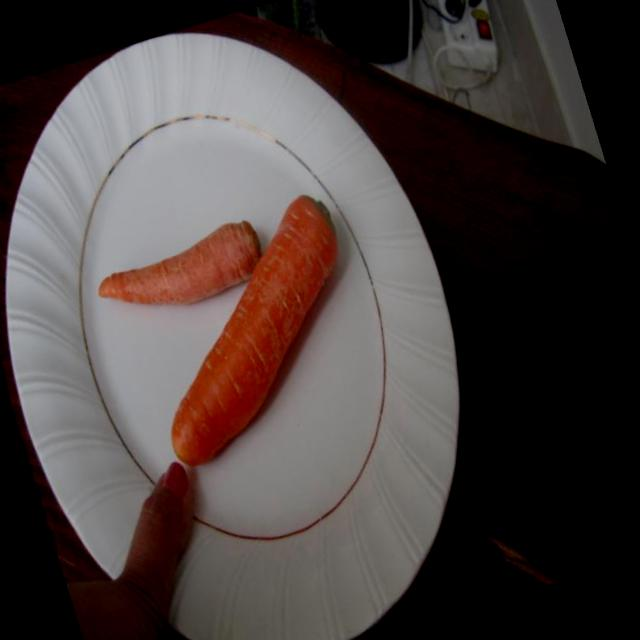Carrot: (109, 180, 404, 491), (82, 204, 280, 338)
Finger: (108, 450, 225, 580)
